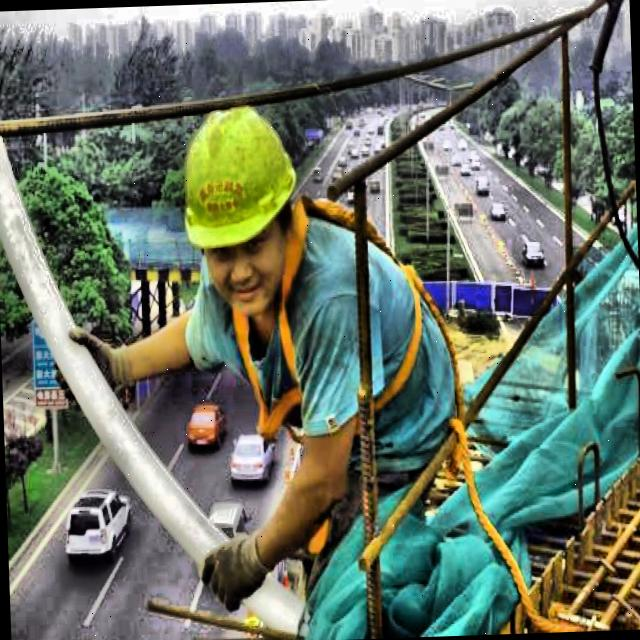helmet: (160, 82, 312, 326)
